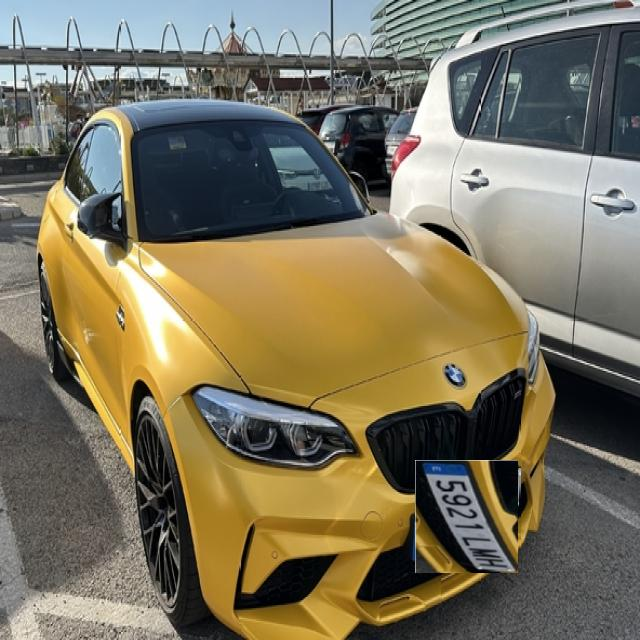License-Plate: (413, 462, 520, 571)
